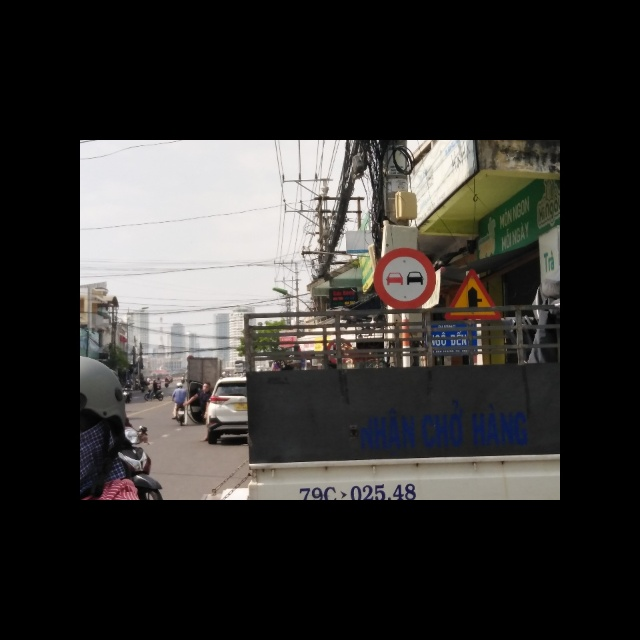Cấm vượt: (373, 247, 436, 311)
Giao nhau với đường không ưu tiên: (445, 267, 504, 319)
